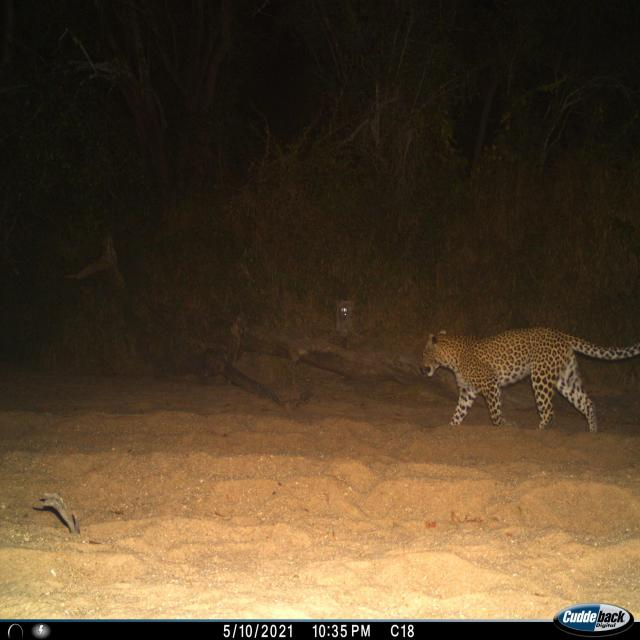Leopard: (416, 318, 633, 444)
